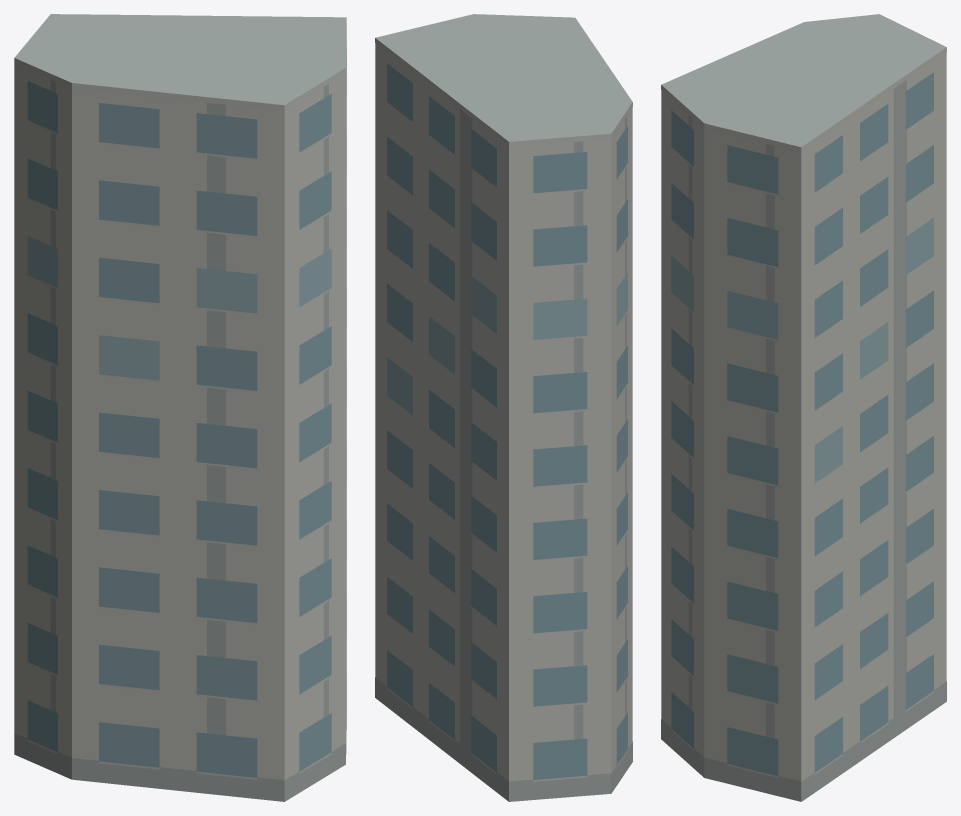
Rendered from residential-c948c51a-744d-49f4-97fc-336fb69c0bc9.glb.
3 views of the same model, side by side, from view 1: azimuth 30°, elevation 25°; view 2: azimuth 150°, elevation 25°; view 3: azimuth 270°, elevation 25° (orthographic). The views are drawn at different scales.
Parts seen in each view (by area): view 1: residential-c948c51a-744d-49f4-97fc-336fb69c0bc9.tmp; view 2: residential-c948c51a-744d-49f4-97fc-336fb69c0bc9.tmp; view 3: residential-c948c51a-744d-49f4-97fc-336fb69c0bc9.tmp.
Part boxes in pixels (x1,y1,x2,y2): residential-c948c51a-744d-49f4-97fc-336fb69c0bc9.tmp: (14, 14, 346, 801); residential-c948c51a-744d-49f4-97fc-336fb69c0bc9.tmp: (375, 14, 632, 801); residential-c948c51a-744d-49f4-97fc-336fb69c0bc9.tmp: (661, 14, 946, 801).
Size of the model in its own units: 13.11 by 30 by 11.87.
